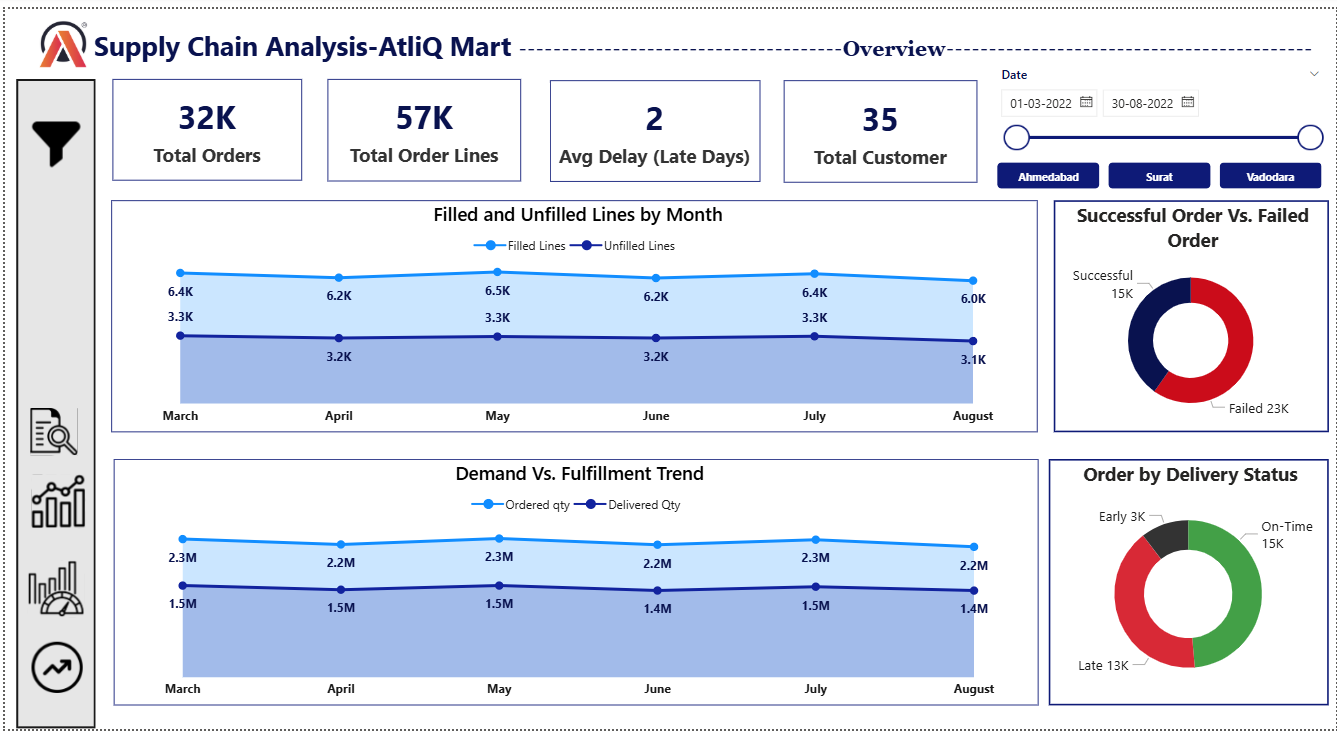

What the dashboard file says about the page in this screenshot:
{"tool":"powerbi","page":{"name":"Overview Page","canvas":[1331,720],"ordinal":0},"visuals":[{"type":"image","box":[11.2,11.2,94.8,47.4],"z":0,"group":"g1"},{"type":"shape","box":[11,69.7,79.5,649.3],"z":0,"group":"g2"},{"type":"lineChart","title":"Filled and Unfilled Lines by Month","fields":{"Category":["dim_date.date.Variation.Date Hierarchy.Month","dim_date.date.Variation.Date Hierarchy.Day"],"Y":["Measure Table.Filled Lines","Measure Table.Unfilled Lines"]},"box":[106.7,191.7,926.7,231.7],"z":0},{"type":"group","id":"g1","title":"topic","box":[11.2,11.2,1312.5,57.5],"z":1000},{"type":"textbox","box":[83.4,14.1,1240.3,54.6],"z":1000,"group":"g1"},{"type":"actionButton","box":[21.9,457.8,61.8,70.1],"z":1000,"group":"g2"},{"type":"donutChart","title":"Order by Delivery Status","fields":{"Category":["fact_order_lines.Order Status"],"Y":["fact_order_lines.Total Order"]},"box":[1043.8,450,280,246.2],"z":2000},{"type":"actionButton","box":[18.9,546.7,67.9,64.7],"z":2000,"group":"g2"},{"type":"areaChart","title":"Demand Vs. Fulfillment Trend","fields":{"Category":["dim_date.date.Variation.Date Hierarchy.Month","dim_date.date.Variation.Date Hierarchy.Day"],"Y":["Measure Table.ordered qty","fact_order_lines.Total Delivered Qty(in_full)"]},"box":[108.3,450,925,246.7],"z":3000},{"type":"actionButton","box":[21.9,628.9,61.8,59.3],"z":3000,"group":"g2"},{"type":"card","fields":{"Values":["fact_orders_aggregate.Total Orders"]},"box":[107.6,69.7,189.5,101.5],"z":4000},{"type":"actionButton","box":[20.4,394.4,64.8,55.2],"z":4000,"group":"g2"},{"type":"card","fields":{"Values":["Measure Table.Avg Delay (Days)"]},"box":[545,71.2,210,101.2],"z":5000},{"type":"donutChart","title":"Successful Order Vs. Failed Order","fields":{"Category":["fact_order_lines.Order Result"],"Y":["fact_order_lines.Total Order"]},"box":[1048.3,191.7,275,231.7],"z":6000},{"type":"card","fields":{"Values":["fact_order_lines.Total Order Lines"]},"box":[322.5,70,193.8,102.5],"z":7000},{"type":"group","id":"g2","title":"side panel","box":[11,69.7,79.5,649.3],"z":8000},{"type":"actionButton","box":[18.8,98.1,64.9,73.6],"z":9000},{"type":"advancedSlicerVisual","title":"City","fields":{"Values":["dim_customers.city"]},"box":[987.5,148.8,336.2,36.2],"z":11000},{"type":"slicer","fields":{"Values":["dim_date.date"]},"box":[987.5,52.5,336.2,90],"z":12000},{"type":"card","fields":{"Values":["dim_customers.Total Customer"]},"box":[778.8,71.2,193.8,102.5],"z":13000}]}

Visuals, with their boxes in screenshot pixels (x1, y1, x2, y2), scaled from the page's 1331x720 canvas onto the 1337x733 screenshot:
image: (x1=11, y1=11, x2=106, y2=60)
shape: (x1=11, y1=71, x2=91, y2=732)
"Filled and Unfilled Lines by Month" lineChart: (x1=107, y1=195, x2=1038, y2=431)
"topic" group: (x1=11, y1=11, x2=1330, y2=70)
textbox: (x1=84, y1=14, x2=1330, y2=70)
actionButton: (x1=22, y1=466, x2=84, y2=537)
"Order by Delivery Status" donutChart: (x1=1049, y1=458, x2=1330, y2=709)
actionButton: (x1=19, y1=557, x2=87, y2=622)
"Demand Vs. Fulfillment Trend" areaChart: (x1=109, y1=458, x2=1038, y2=709)
actionButton: (x1=22, y1=640, x2=84, y2=701)
card - fact_orders_aggregate.Total Orders: (x1=108, y1=71, x2=298, y2=174)
actionButton: (x1=20, y1=402, x2=86, y2=458)
card - Measure Table.Avg Delay (Days): (x1=547, y1=72, x2=758, y2=176)
"Successful Order Vs. Failed Order" donutChart: (x1=1053, y1=195, x2=1329, y2=431)
card - fact_order_lines.Total Order Lines: (x1=324, y1=71, x2=519, y2=176)
"side panel" group: (x1=11, y1=71, x2=91, y2=732)
actionButton: (x1=19, y1=100, x2=84, y2=175)
"City" advancedSlicerVisual: (x1=992, y1=151, x2=1330, y2=188)
slicer - dim_date.date: (x1=992, y1=53, x2=1330, y2=145)
card - dim_customers.Total Customer: (x1=782, y1=72, x2=977, y2=177)
